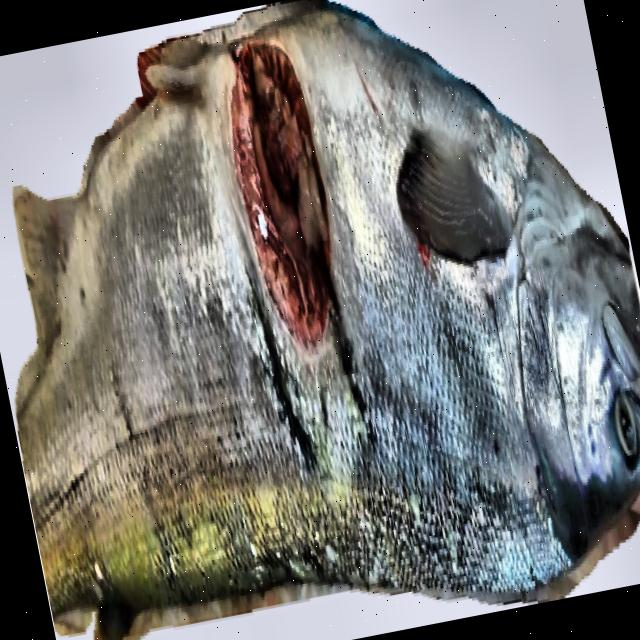mild_red: (14, 36, 566, 617)
wound: (231, 45, 330, 342)
